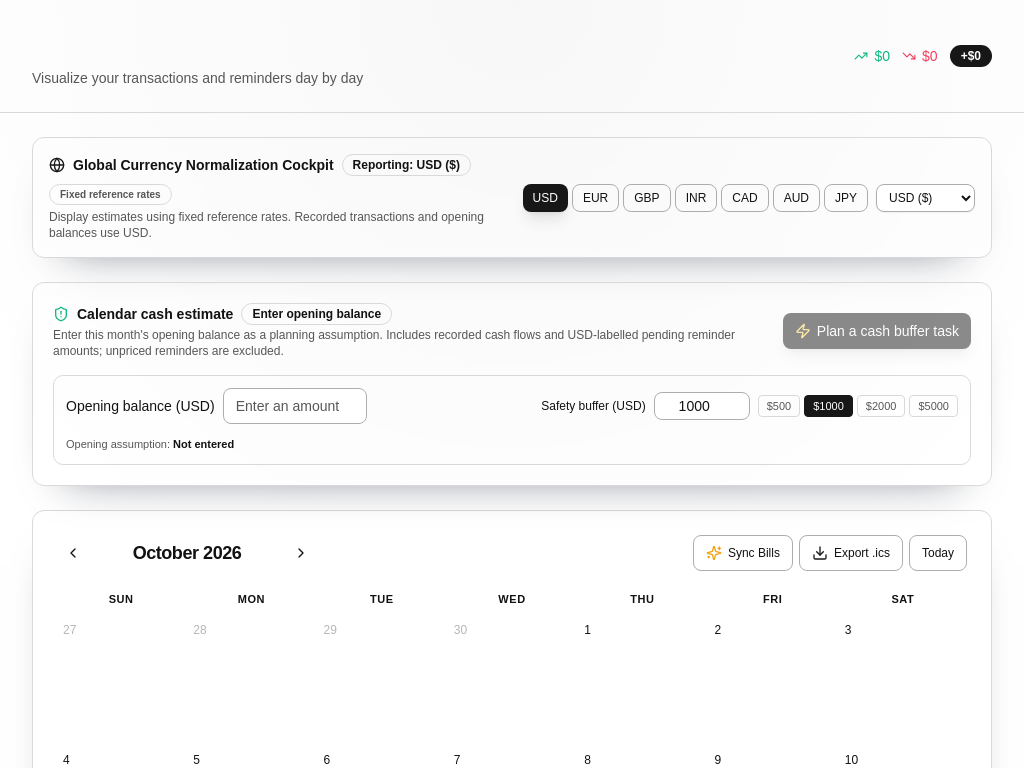
FinancialCalendar Page › uses explicit cent, zero and negative opening balances and counts investment outflows
Type "1000.50" into the number field labelled "Opening balance (USD)" at (295, 406), box [223,388,367,424]
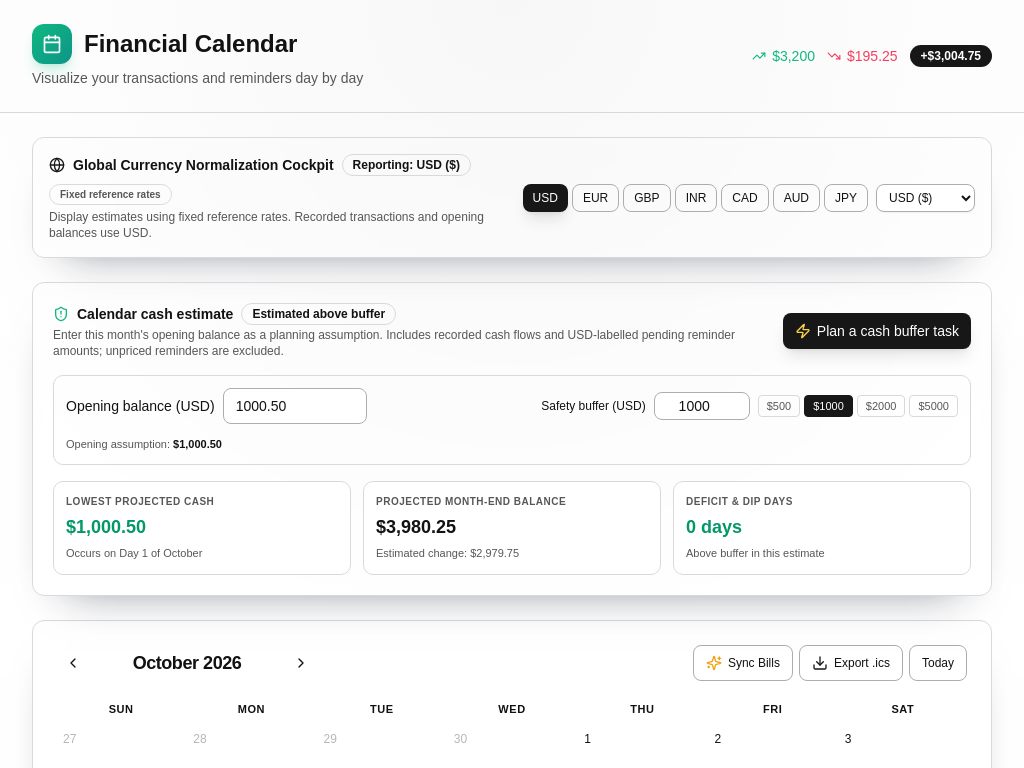
Result: the text with test id "metric-projected-month-end-balance" shows "3,980.25" at [376,517,456,537]
Replace the text in the number field labelled "Opening balance (USD)" with "0" at (295, 406), box [223,388,367,424]
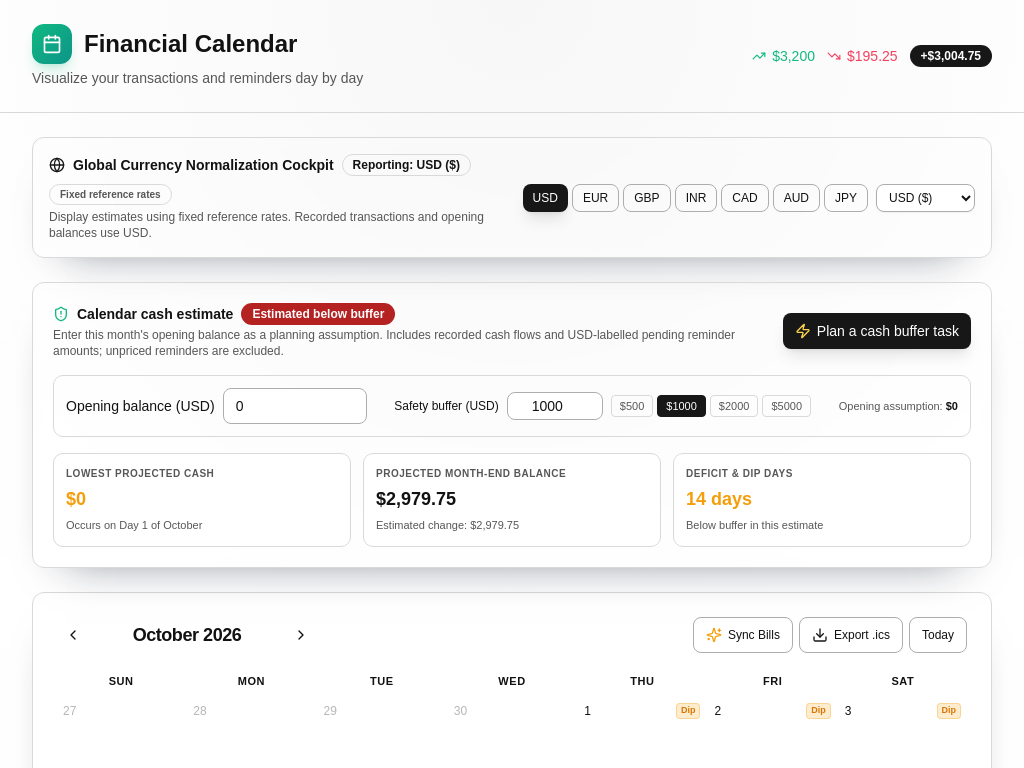
Result: the text with test id "metric-projected-month-end-balance" shows "2,979.75" at [376,489,456,509]
Replace the text in the number field labelled "Opening balance (USD)" with "-100" at (295, 406), box [223,388,367,424]
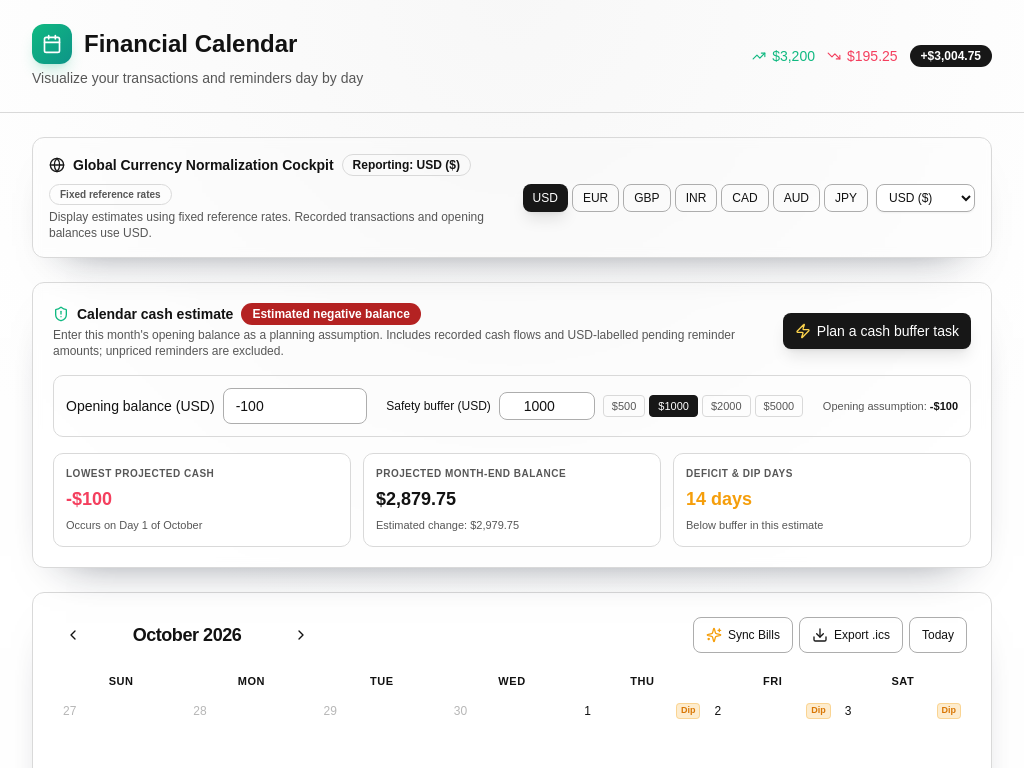
Result: the text with test id "metric-projected-month-end-balance" shows "2,879.75" at [376,489,456,509]
Clear the number field labelled "Opening balance (USD)" at (295, 406), box [223,388,367,424]
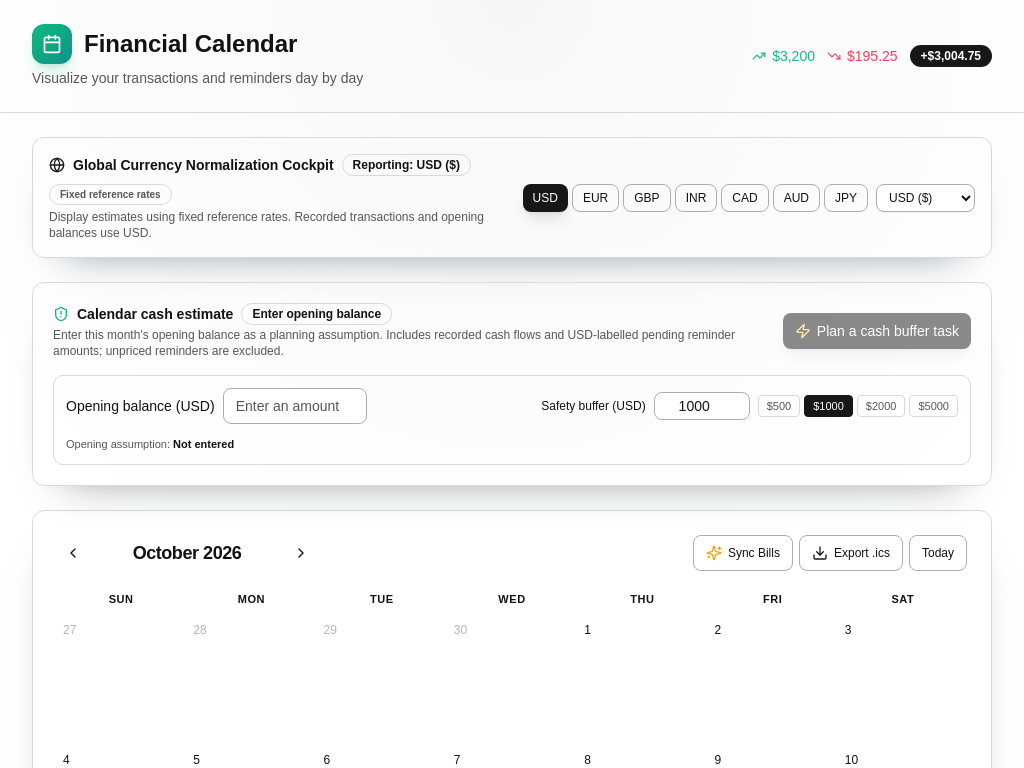
Result: the text with test id "metric-projected-month-end-balance" is gone
Type "1000" into the number field labelled "Opening balance (USD)" at (295, 406), box [223,388,367,424]
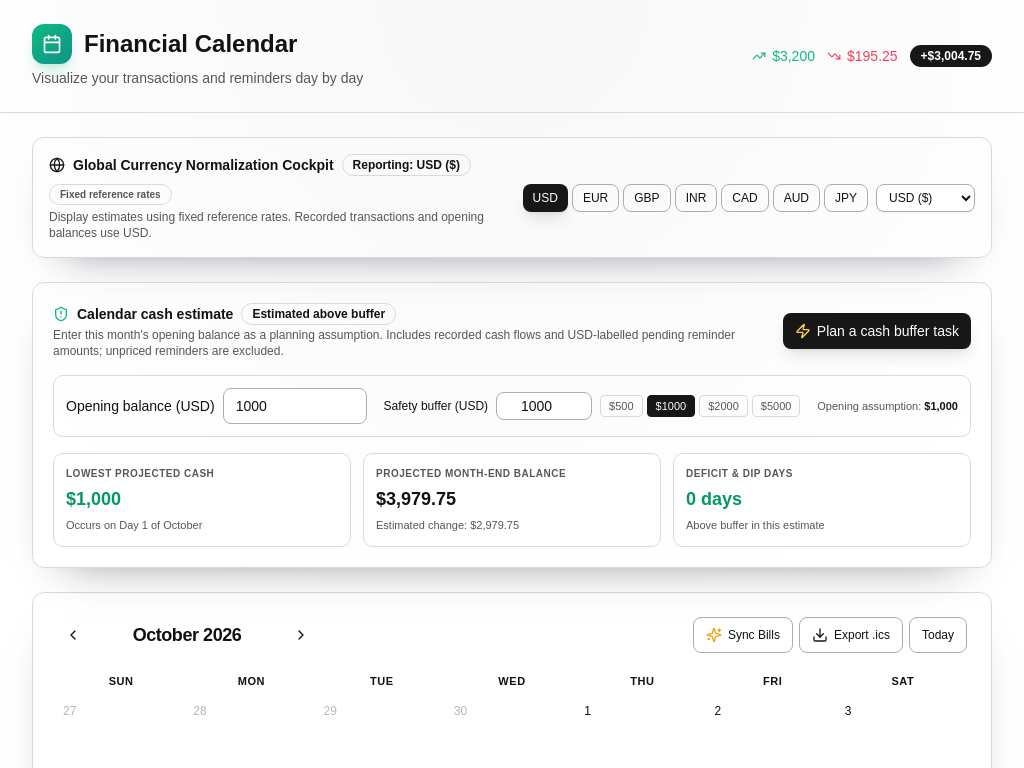
Click the button named "Next month" at (301, 634), box [285,618,317,650]
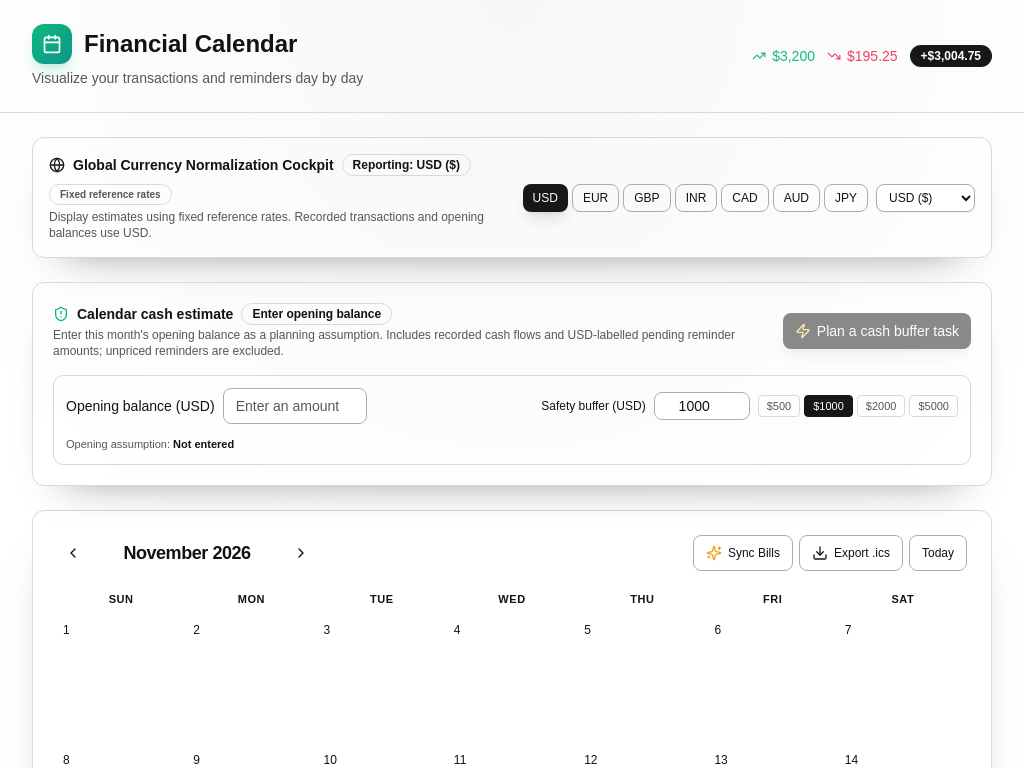
Result: the text with test id "metric-projected-month-end-balance" is gone
